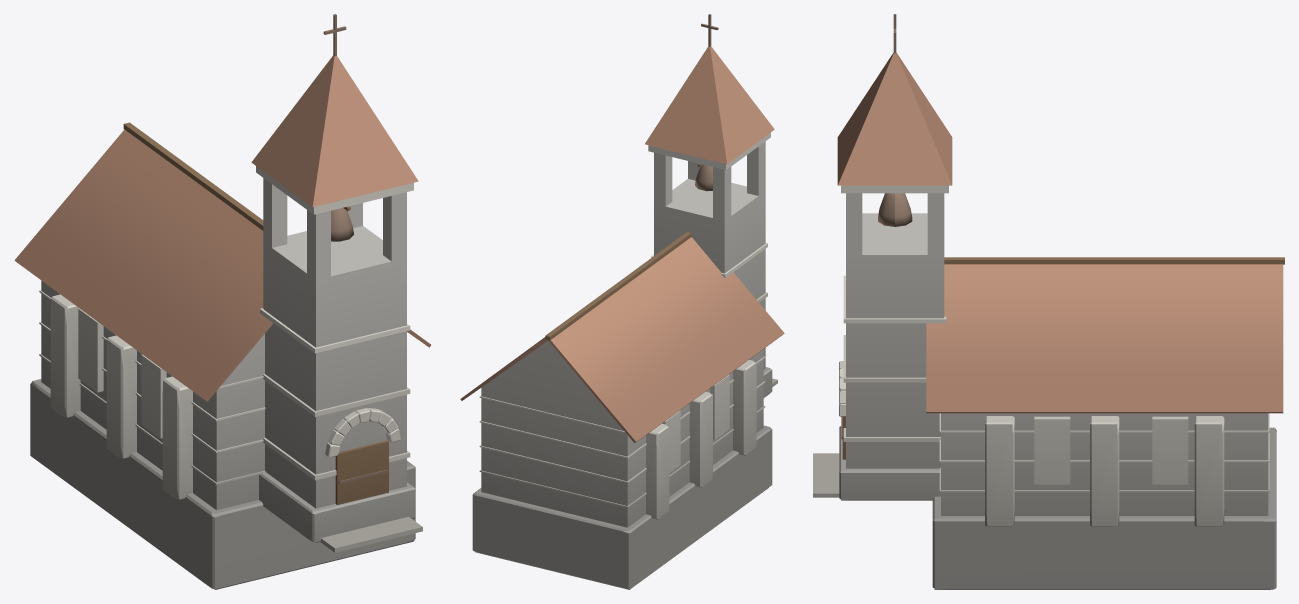
The model's file is kapelle.glb.
The picture shows the model from 3 angles, left to right: view 1: azimuth 30°, elevation 25°; view 2: azimuth 150°, elevation 25°; view 3: azimuth 270°, elevation 25°; orthographic projection. The views are drawn at different scales.
Parts seen in each view (by area): view 1: G_kapelle; view 2: G_kapelle; view 3: G_kapelle.
Boxes of the visible parts, bbox=[...] form: G_kapelle: bbox=[14, 14, 430, 589]; G_kapelle: bbox=[460, 14, 784, 589]; G_kapelle: bbox=[813, 14, 1284, 589].
Size of the model in its own units: 7.46 by 17.85 by 14.4.
